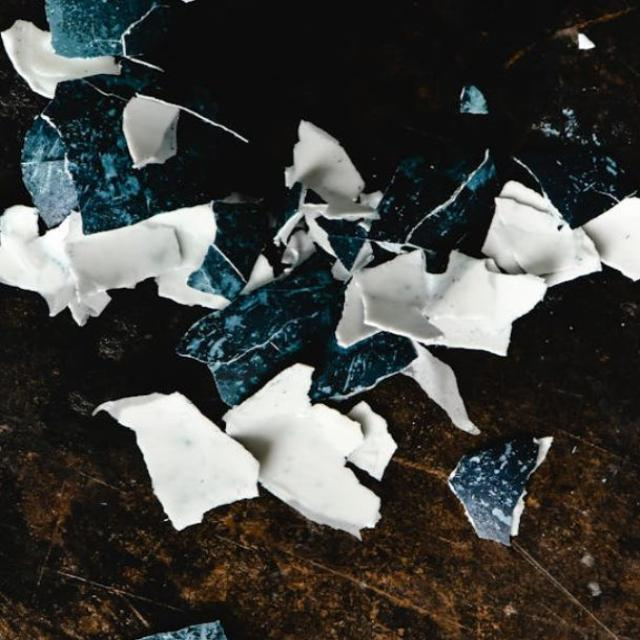electronic: (1, 0, 640, 546)
